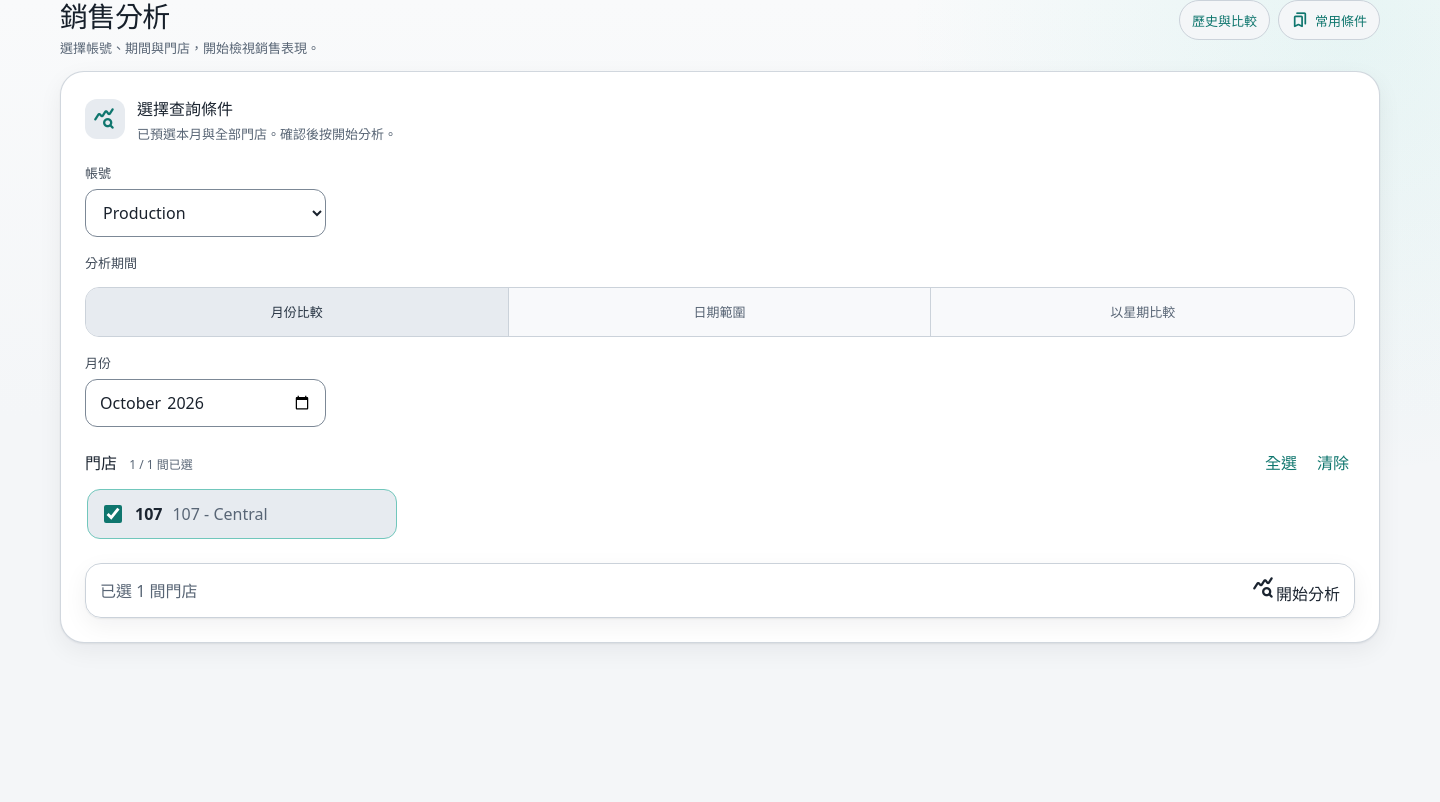
it: sales analysis page › shows a PDF-specific error when report rendering fails
Expected: the text "107 - Central" is shown, [172, 503, 268, 525]
Click the text "開始分析" at [1296, 590], box [1252, 576, 1340, 605]
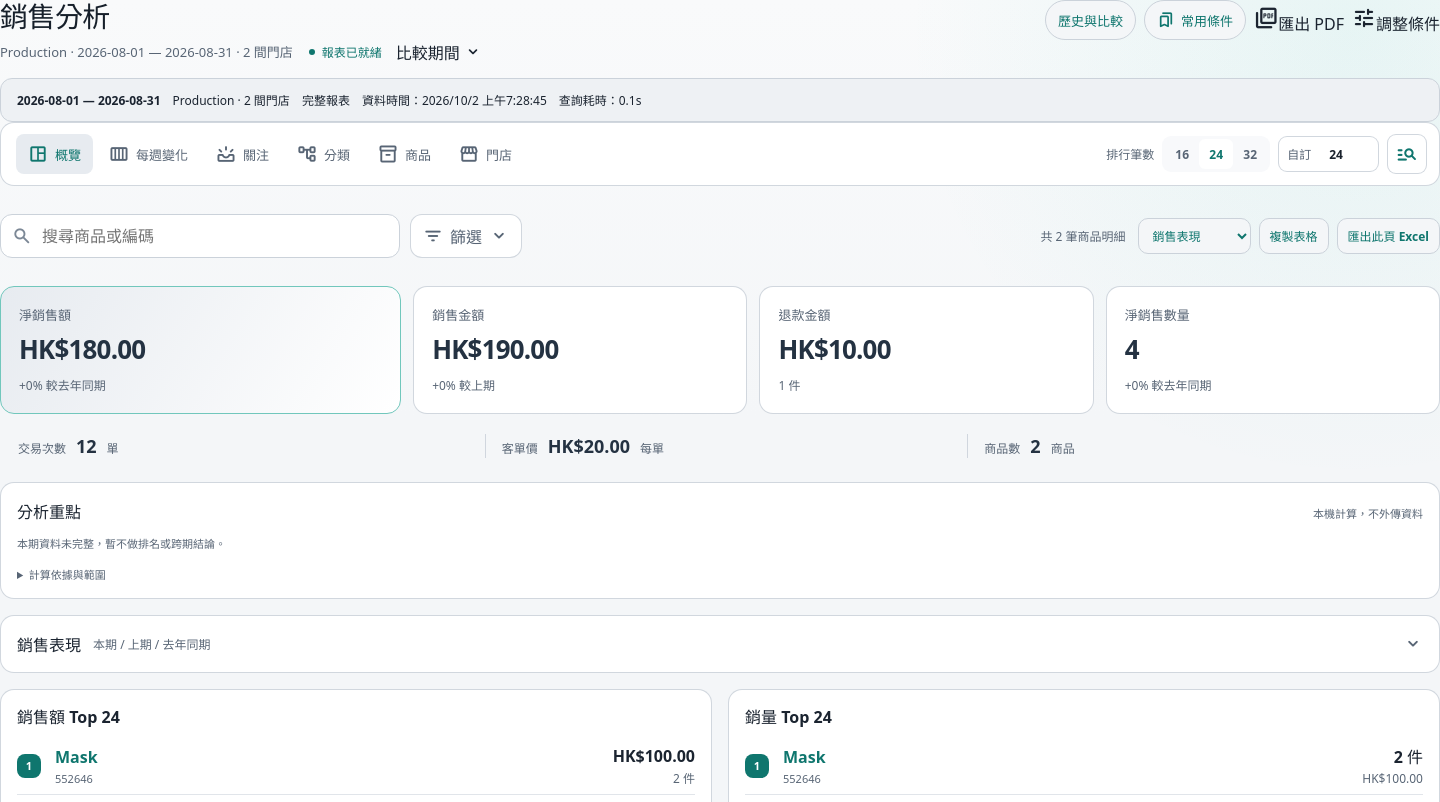
Expected: the heading "銷售額 Top 24" is shown, [17, 704, 120, 728]
Click the text "匯出 PDF" at [1299, 20], box [1254, 6, 1344, 34]
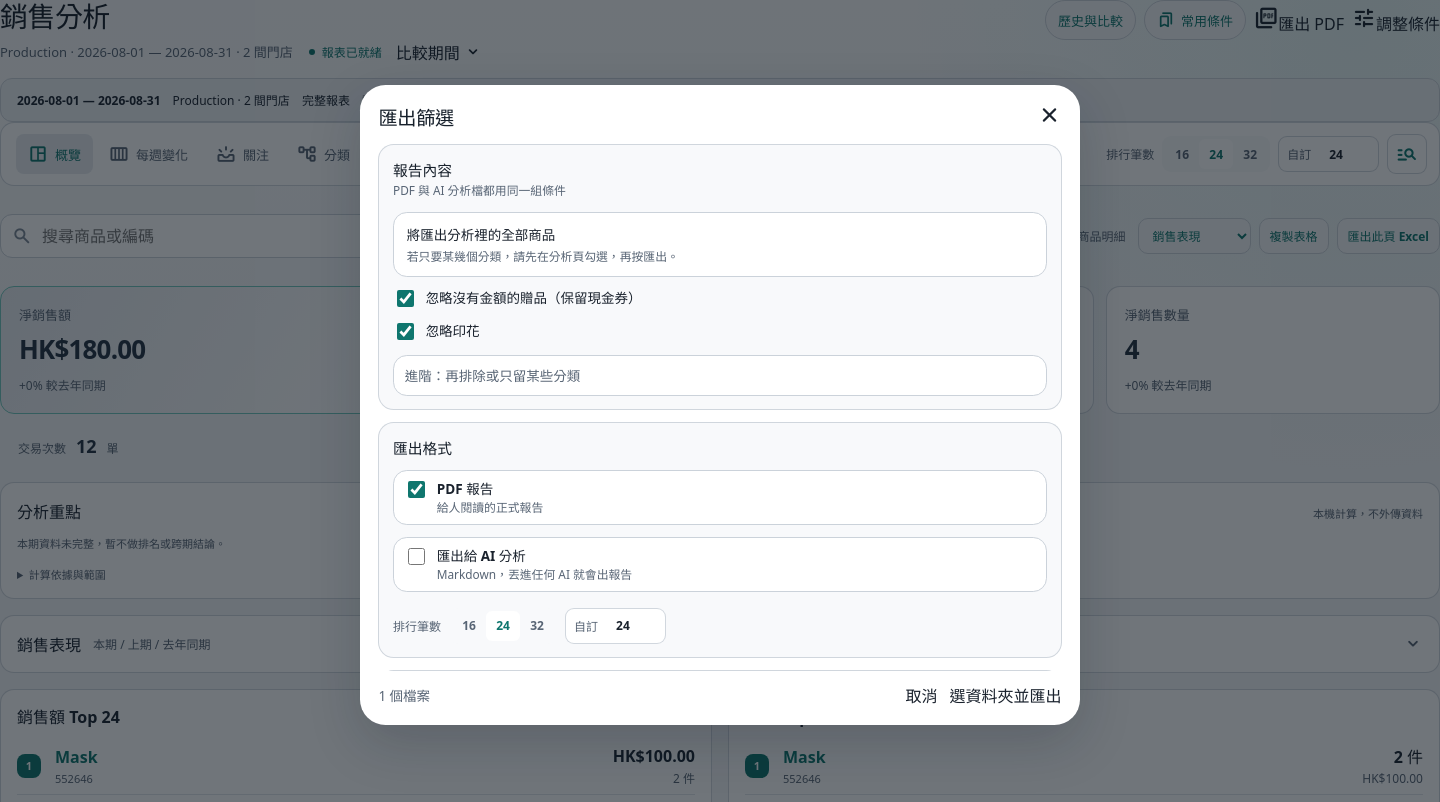
Expected: the heading "匯出篩選" is shown, [378, 106, 454, 129]
Click the text "選資料夾並匯出" at [1006, 695], box [950, 683, 1062, 707]
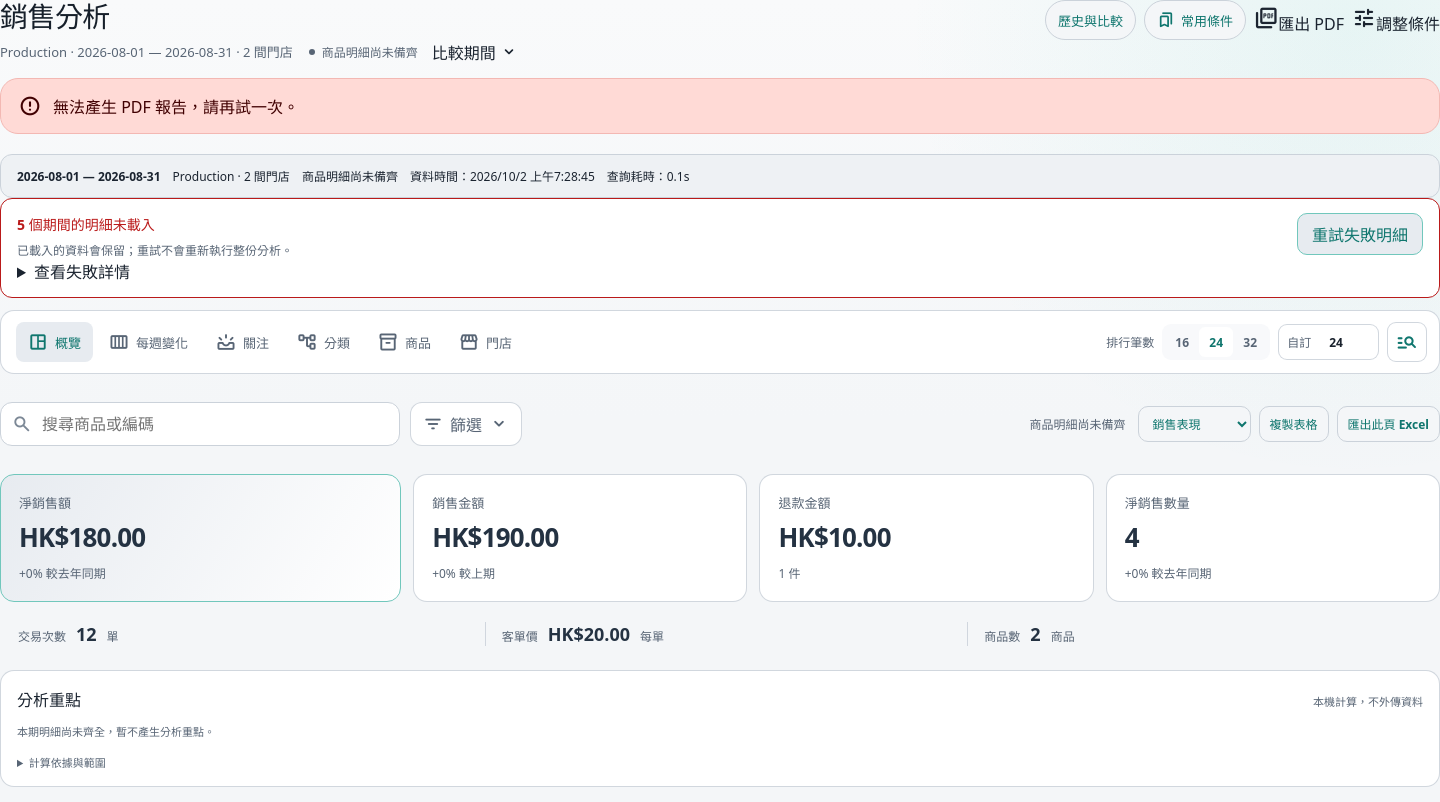
Expected: the message "無法產生 PDF 報告，請再試一次。" is shown, [0, 78, 1439, 134]
